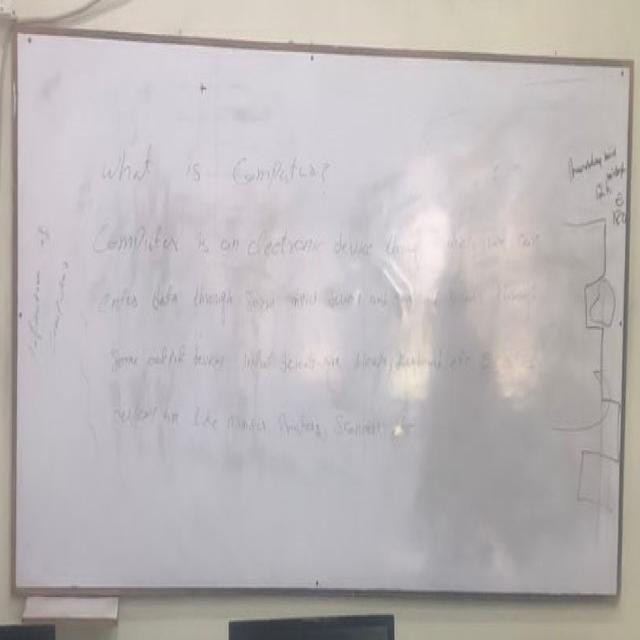White-board: (11, 28, 631, 603)
